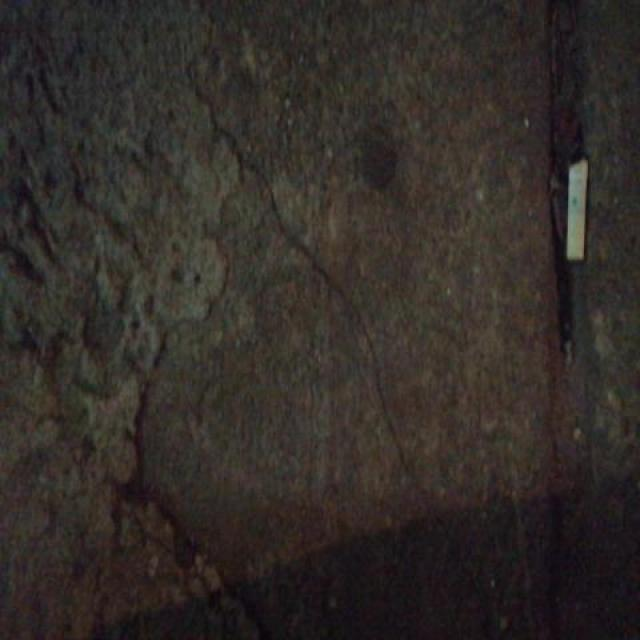non-organic waste: (563, 152, 589, 267)
